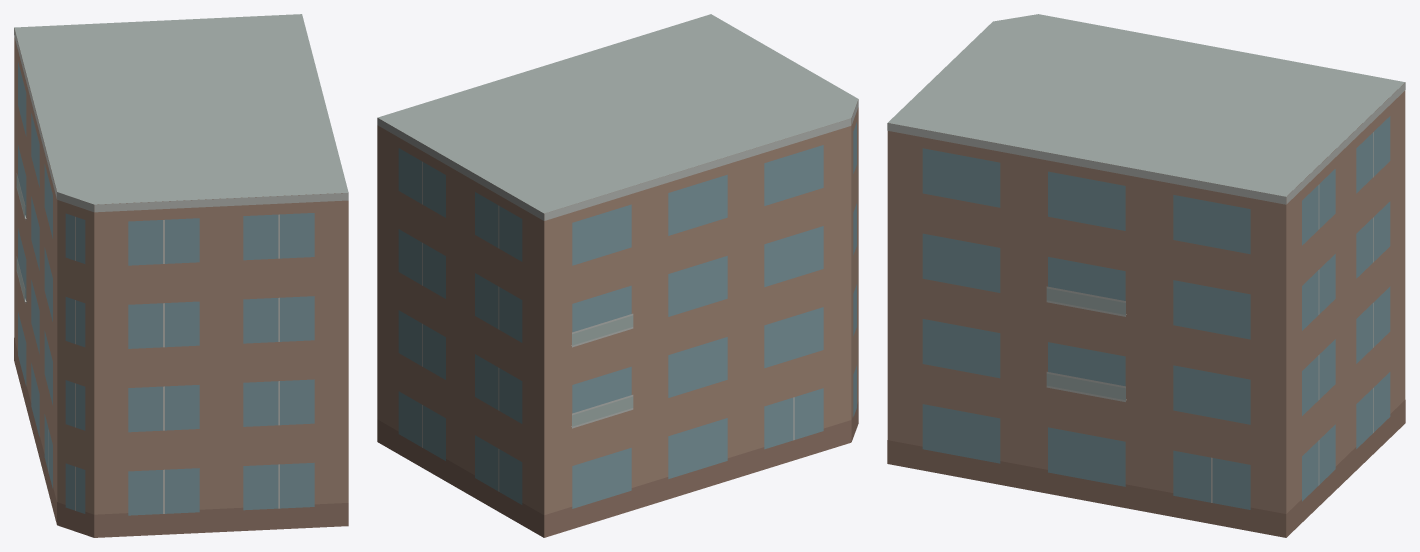
The model's file is survey-upis-33020890.glb.
The picture shows the model from 3 angles, left to right: view 1: azimuth 30°, elevation 25°; view 2: azimuth 150°, elevation 25°; view 3: azimuth 270°, elevation 25°; orthographic projection. The views are drawn at different scales.
Visible parts, largest first — view 1: survey-upis-33020890.tmp; view 2: survey-upis-33020890.tmp; view 3: survey-upis-33020890.tmp.
Part boxes in pixels (left/top/right/bottom): survey-upis-33020890.tmp: left=14, top=14, right=348, bottom=537; survey-upis-33020890.tmp: left=377, top=14, right=858, bottom=537; survey-upis-33020890.tmp: left=887, top=14, right=1405, bottom=537.
Size of the model in its own units: 12.08 by 10.5 by 14.46.
